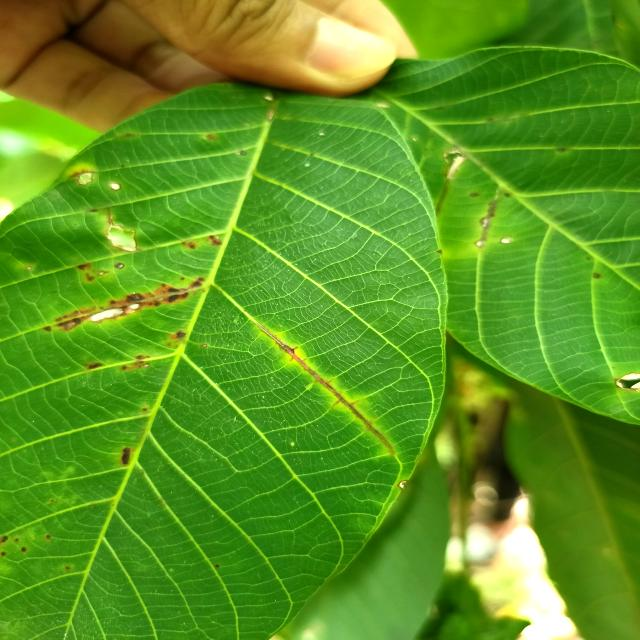Colletotrichum: (110, 182, 122, 191), (115, 263, 125, 269), (21, 546, 27, 552), (1, 551, 6, 556), (202, 344, 208, 347)
Corynespora: (255, 325, 395, 456)
Leaf-Blight: (92, 308, 122, 322), (448, 156, 467, 178), (621, 374, 640, 379), (630, 381, 640, 389), (615, 380, 623, 388)
